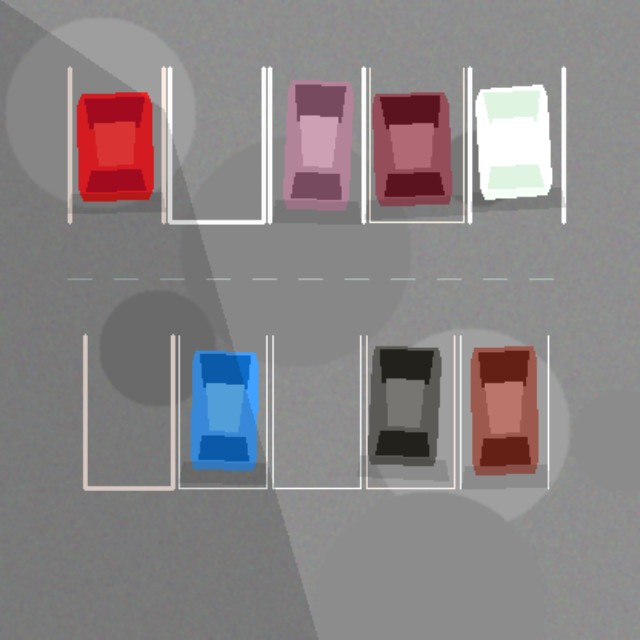space-empty: (169, 68, 263, 222), (272, 335, 360, 488), (85, 335, 172, 488)
space-occupied: (69, 68, 163, 222), (269, 68, 363, 222), (369, 68, 463, 222), (469, 68, 563, 222), (178, 335, 266, 488), (366, 335, 454, 488), (460, 335, 548, 488)
